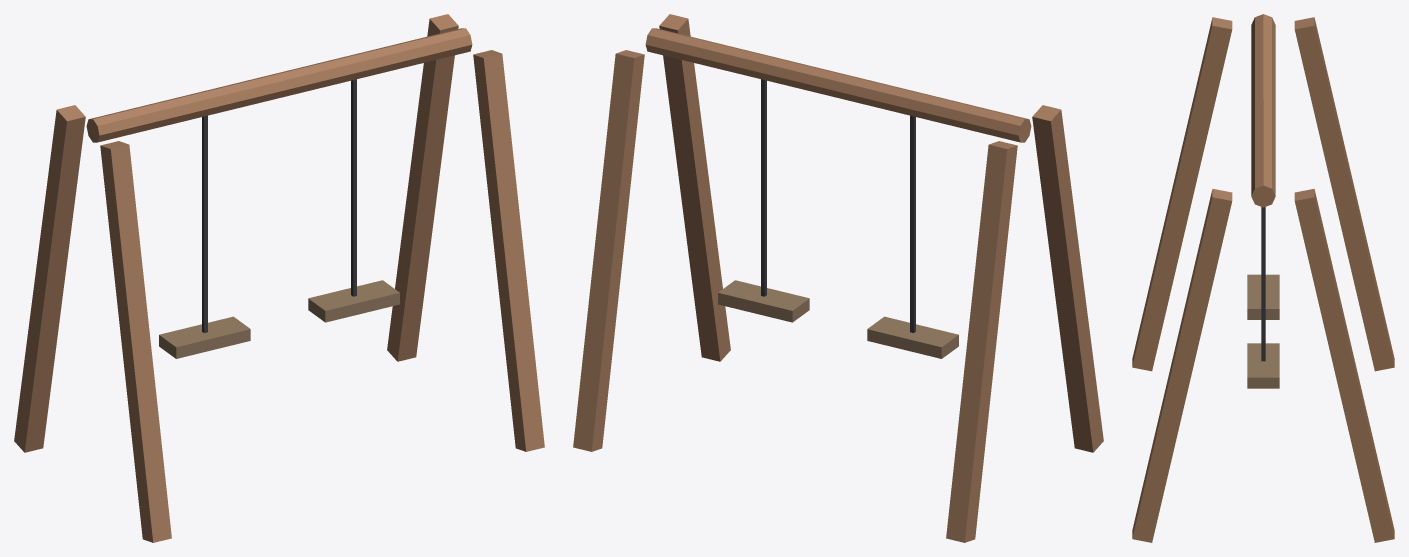
The model's file is SM_Swing.fbx.
3 renders of one model, left to right at view 1: azimuth 30°, elevation 25°; view 2: azimuth 150°, elevation 25°; view 3: azimuth 270°, elevation 25°, orthographic. The views are drawn at different scales.
Parts seen in each view (by area): view 1: SM_Swing; view 2: SM_Swing; view 3: SM_Swing.
Part boxes in pixels (box(x1,y1,x2,y2)): SM_Swing: box(14, 14, 544, 542); SM_Swing: box(573, 14, 1103, 542); SM_Swing: box(1132, 14, 1394, 542).
Bounding box in the file's own units: 1050 × 960 × 646.
